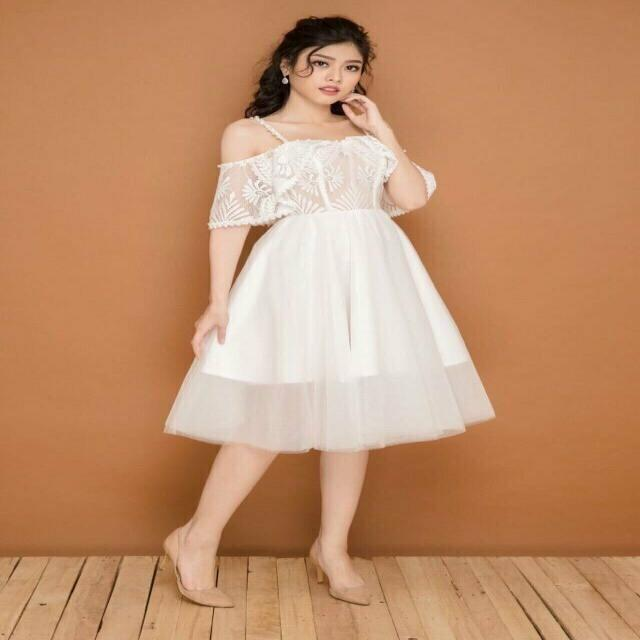clothes: (165, 114, 499, 448)
